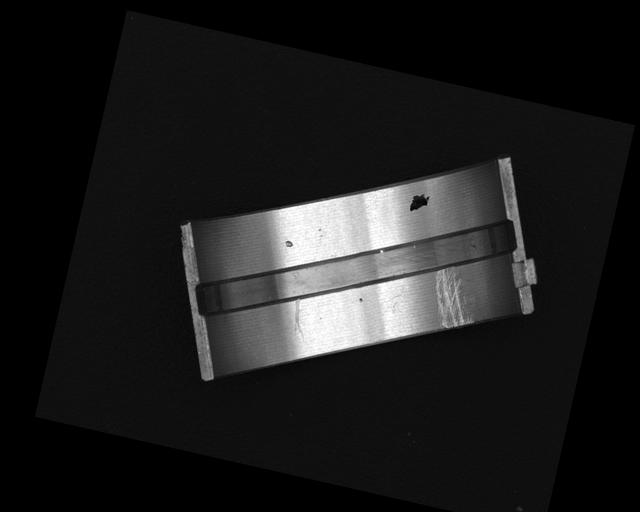blot: (407, 191, 432, 216)
bruise: (283, 239, 294, 248), (358, 295, 364, 302)
gap: (188, 155, 519, 380)
nick: (287, 298, 312, 340)
scratch: (425, 266, 483, 333)
